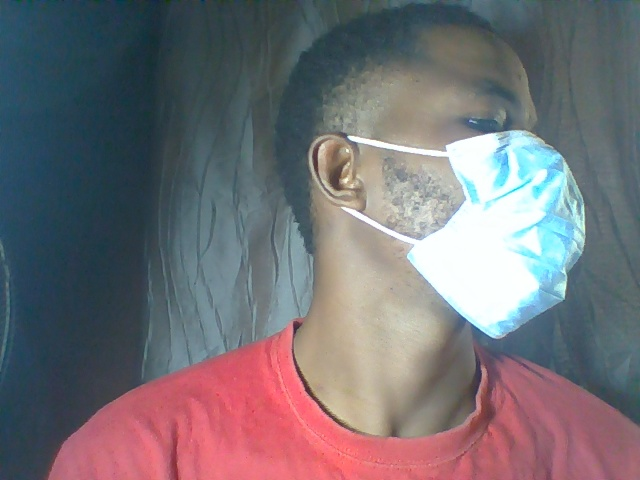MaskOn: (271, 3, 594, 366)
